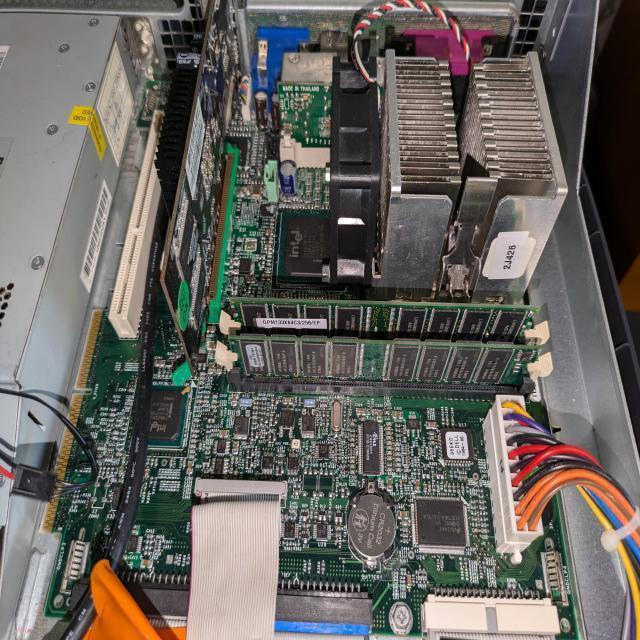CPU_Fan: (322, 49, 568, 304)
Mainboard: (38, 78, 580, 640)
PSU: (0, 13, 138, 640)
RAM: (228, 334, 542, 387), (228, 296, 540, 342)
